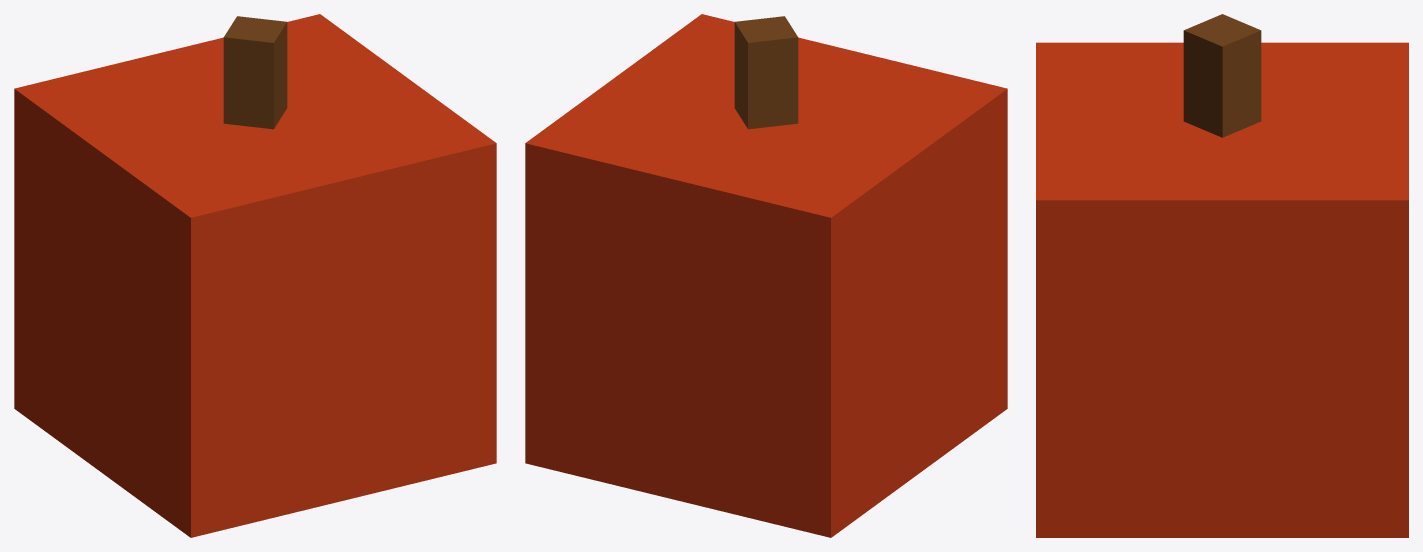
File: Apple.fbx
The picture shows the model from 3 angles, left to right: view 1: azimuth 30°, elevation 25°; view 2: azimuth 150°, elevation 25°; view 3: azimuth 270°, elevation 25°; orthographic projection. The views are drawn at different scales.
Parts seen in each view (by area): view 1: polySurface4; view 2: polySurface4; view 3: polySurface4.
Part boxes in pixels (left/top/right/bottom): polySurface4: left=14, top=14, right=496, bottom=537; polySurface4: left=525, top=14, right=1007, bottom=537; polySurface4: left=1036, top=14, right=1408, bottom=537.
Size of the model in its own units: 44.35 by 56.32 by 44.35.
